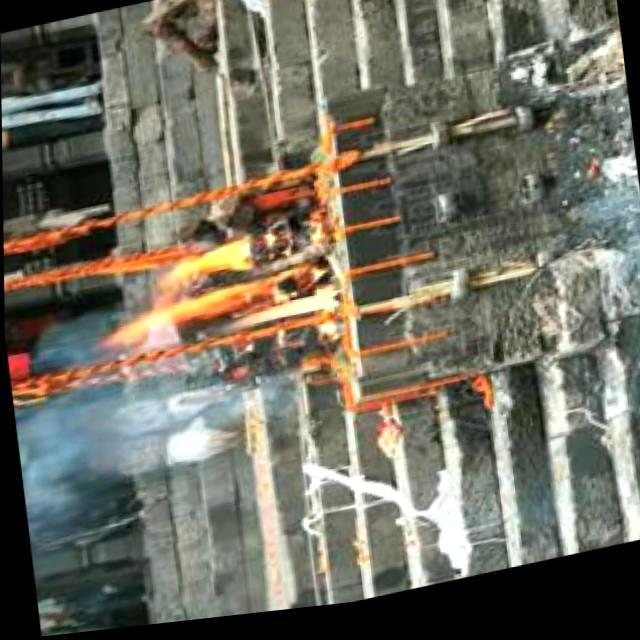fire: (117, 224, 339, 360)
